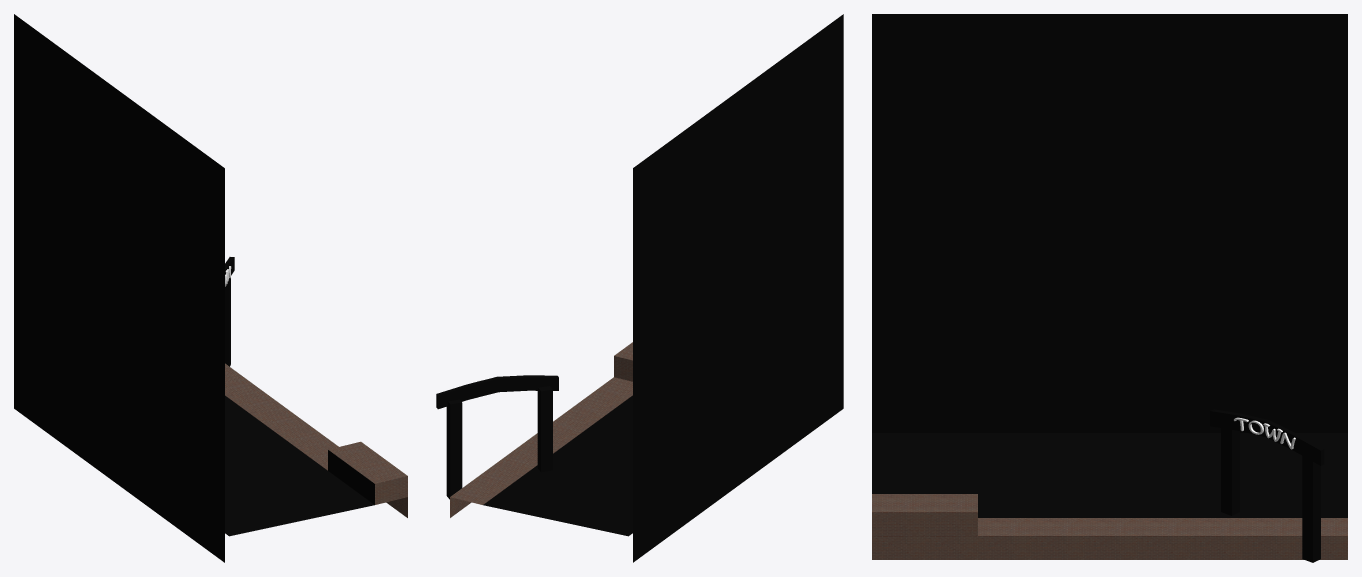
Rendered from LV1_Plat4.fbx.
3 views of the same model, side by side, from view 1: azimuth 30°, elevation 25°; view 2: azimuth 150°, elevation 25°; view 3: azimuth 270°, elevation 25° (orthographic). The views are drawn at different scales.
Parts seen in each view (by area): view 1: SM_LV1_Plat4; view 2: SM_LV1_Plat4; view 3: SM_LV1_Plat4.
Boxes of the visible parts, <box> form: SM_LV1_Plat4: <box>14,14,407,562</box>; SM_LV1_Plat4: <box>436,14,843,562</box>; SM_LV1_Plat4: <box>872,14,1347,562</box>.
Size of the model in its own units: 1028 by 1859 by 1800.
